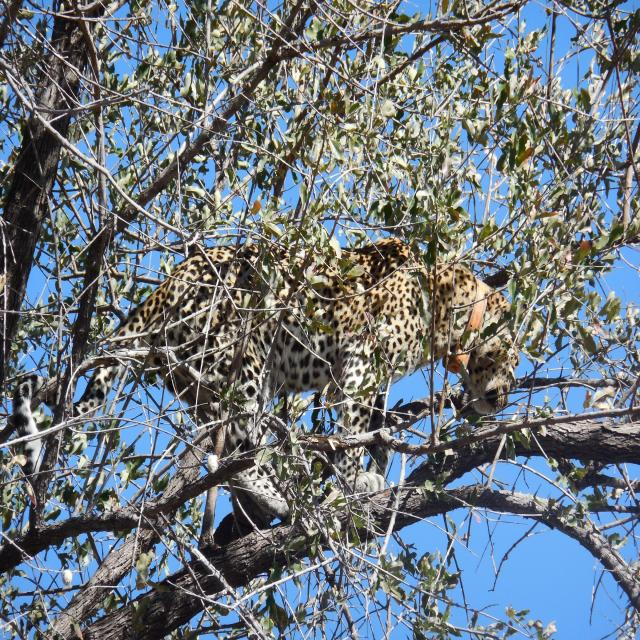Leopard: (15, 214, 532, 524)
